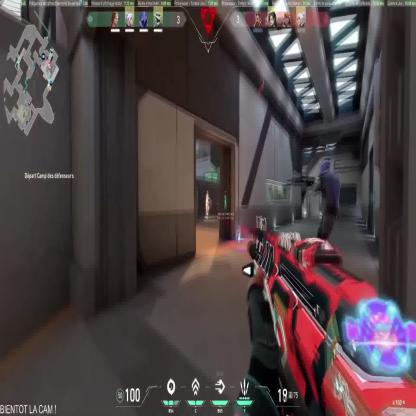enemy: (204, 190, 210, 217)
enemy_head: (206, 191, 208, 194)
